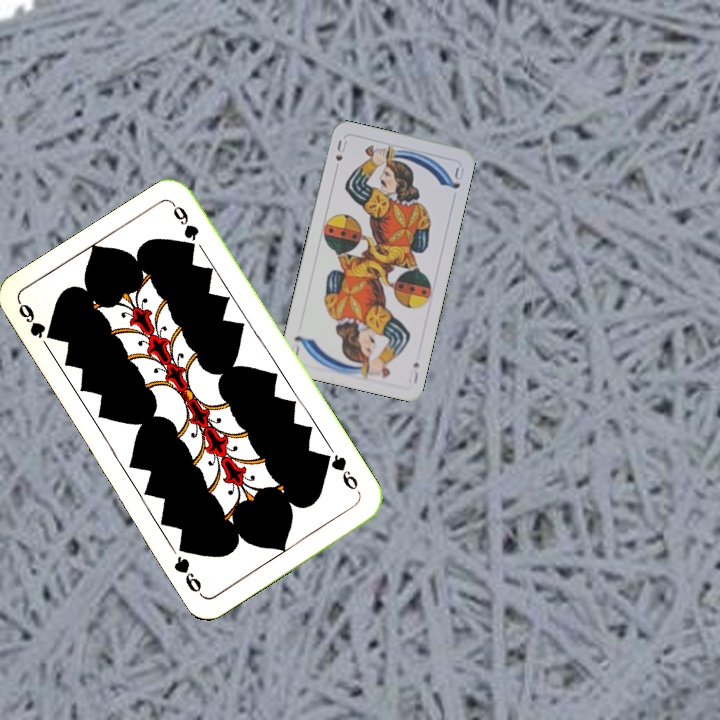G9: (319, 449, 364, 497), (14, 299, 57, 343)
SU: (331, 136, 349, 164), (409, 358, 423, 386)
